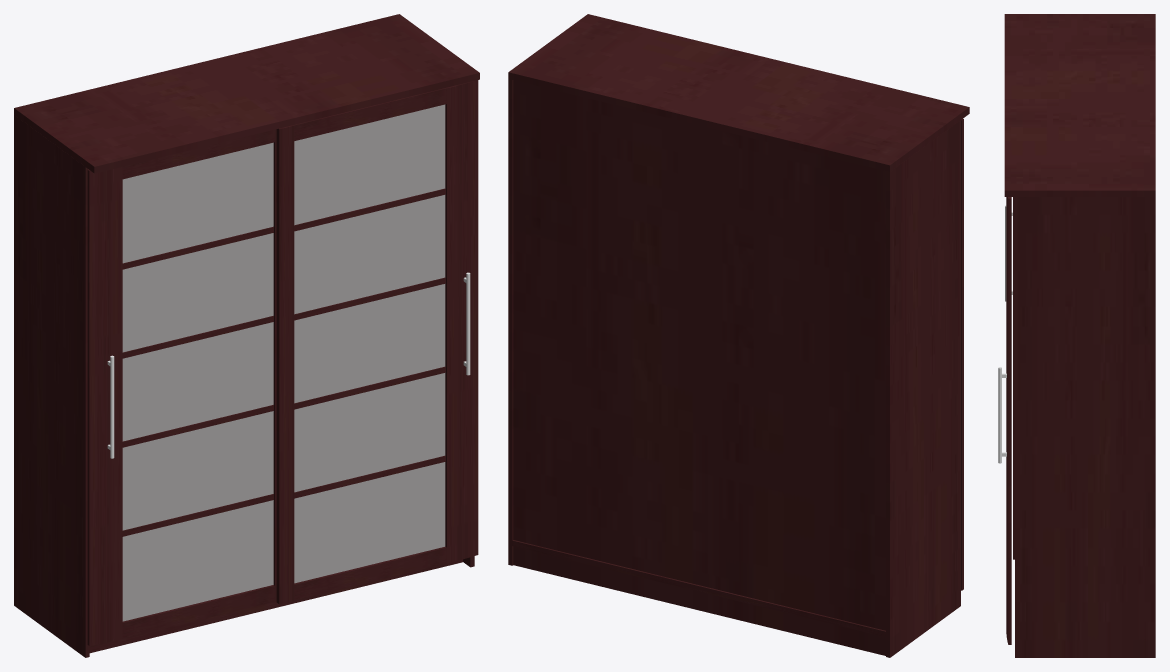
File: armoirelotus.glb
The picture shows the model from 3 angles, left to right: view 1: azimuth 30°, elevation 25°; view 2: azimuth 150°, elevation 25°; view 3: azimuth 270°, elevation 25°; orthographic projection. The views are drawn at different scales.
Visible parts, largest first — view 1: armoireLotus; view 2: armoireLotus; view 3: armoireLotus.
Boxes of the visible parts, box(x1,y1,x2,y2) form: armoireLotus: box(14, 14, 479, 657); armoireLotus: box(508, 14, 969, 657); armoireLotus: box(998, 14, 1155, 657).
Bounding box in the file's own units: 179 × 221 × 67.54.
3 materials, 2 textured.
